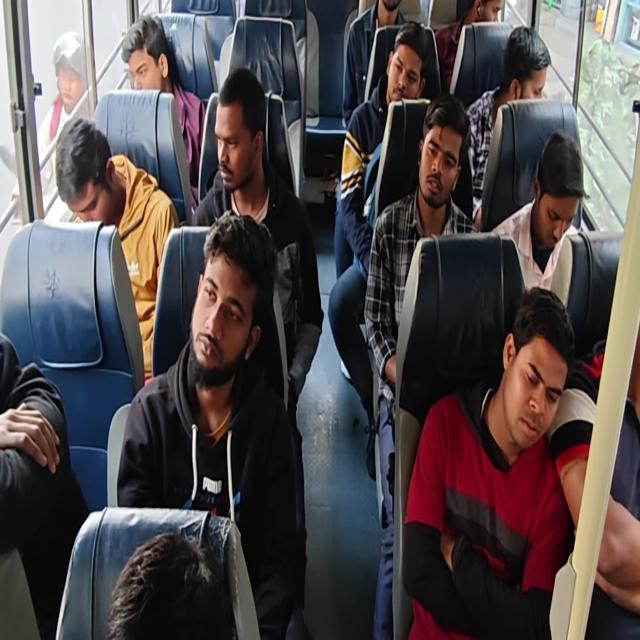person: (1, 1, 638, 638), (115, 208, 303, 638), (191, 67, 324, 619), (363, 92, 479, 638), (402, 285, 575, 639), (327, 20, 429, 479), (55, 116, 180, 384), (547, 332, 639, 638), (0, 329, 89, 638), (463, 25, 551, 227), (120, 12, 207, 205), (490, 128, 587, 295), (106, 530, 236, 638), (37, 30, 94, 198), (341, 0, 407, 129), (434, 0, 502, 94)
